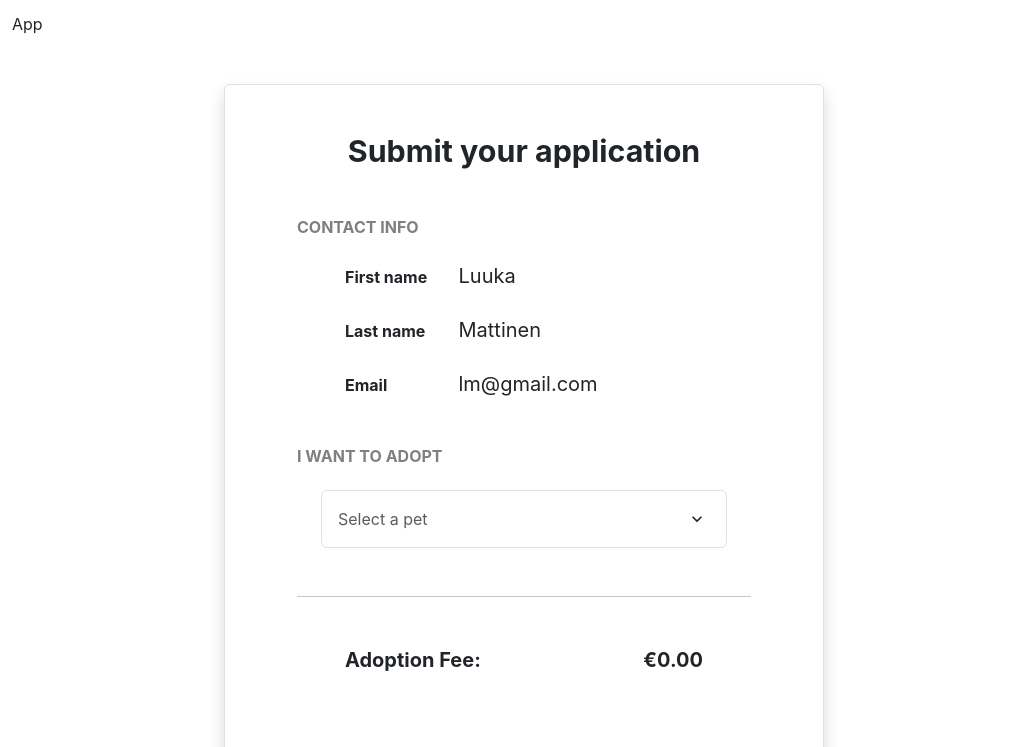
<AdoptionForm /> › when user is logged in › clicking adopt option dropdown button › shows the correct content
The width and height of the screenshot is (1036, 747).
What coordinates should you click on to do the following:
click the 1st button
I would click on:
 (524, 519)
Its box is [321,490,727,548].
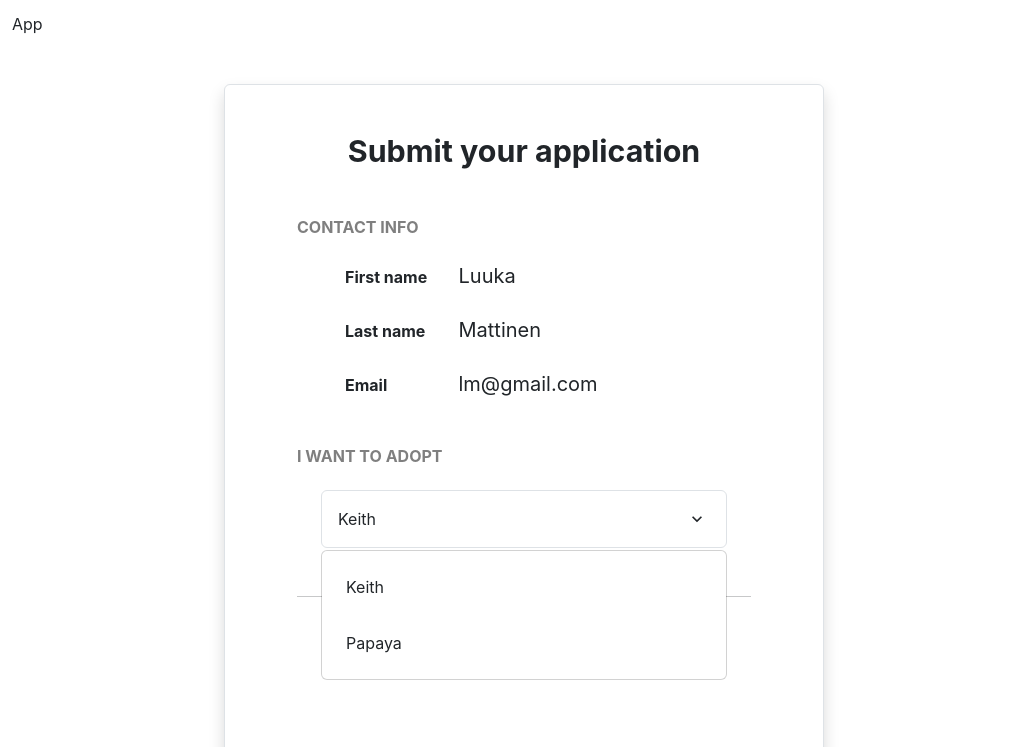
Result: the list item "Keith" is shown at [346,577,384,597]
Result: the list item "Papaya" is shown at [346,633,402,653]
